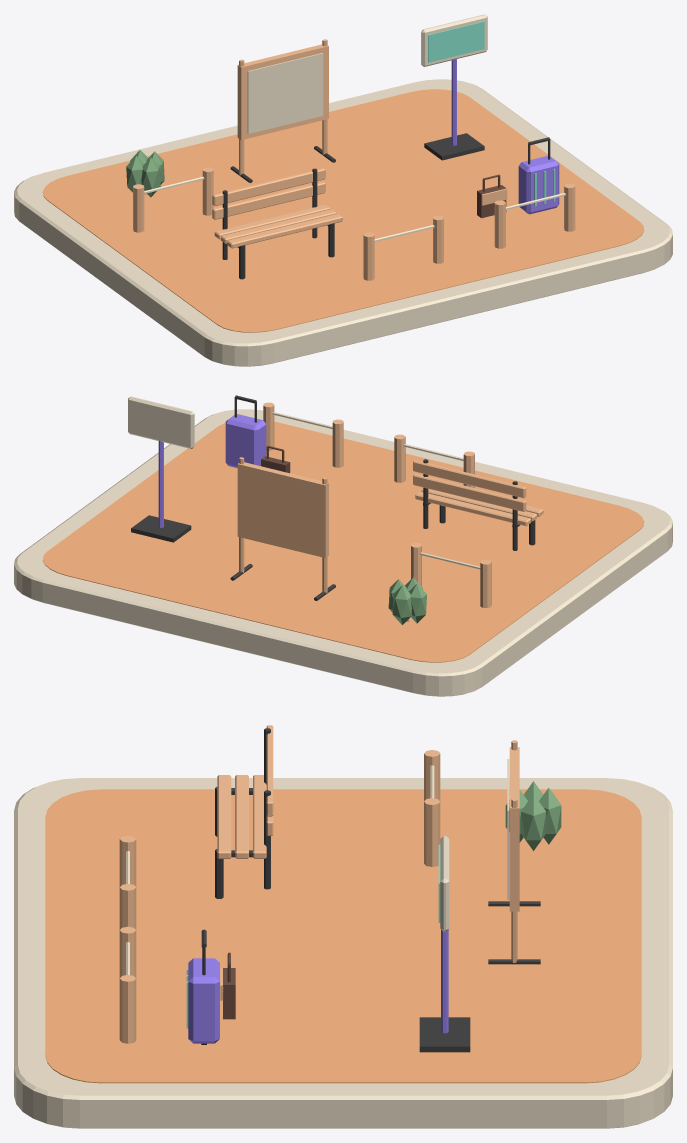
3 renders of one model, top to bottom at view 1: azimuth 30°, elevation 25°; view 2: azimuth 150°, elevation 25°; view 3: azimuth 270°, elevation 25°, orthographic. The views are drawn at different scales.
Visible parts, largest first — view 1: COM-02 Floor Surface, COM-01 Rounded Base Direct, Art surface, Frame, Shell, Inset, Back slat, Back slat.001, Seat slat, Sign panel, Foot.002, Bag (+9 smaller); view 2: COM-02 Floor Surface, COM-01 Rounded Base Direct, Frame, Sign panel, Shell, Back slat.001, Back slat, Seat slat.002, Foot.002, Seat slat.001, Leaf.001, Boundary post.002 (+6 smaller); view 3: COM-02 Floor Surface, COM-01 Rounded Base Direct, Shell, Foot.002, Frame, Seat slat, Boundary post.003, Seat slat.001, Boundary post.005, Leaf, Seat slat.002, Sign panel (+8 smaller).
Boxes of the visible parts, x1=… form: COM-02 Floor Surface: x1=42, y1=89, x2=644, y2=332; COM-01 Rounded Base Direct: x1=14, y1=79, x2=672, y2=366; Art surface: x1=247, y1=53, x2=323, y2=133; Frame: x1=237, y1=44, x2=328, y2=139; Shell: x1=518, y1=155, x2=559, y2=214; Inset: x1=428, y1=21, x2=484, y2=62; Back slat: x1=212, y1=181, x2=325, y2=219; Back slat.001: x1=212, y1=168, x2=325, y2=205; Seat slat: x1=227, y1=214, x2=342, y2=248; Sign panel: x1=421, y1=14, x2=487, y2=66; Foot.002: x1=424, y1=133, x2=484, y2=160; Bag: x1=477, y1=174, x2=507, y2=218; COM-02 Floor Surface: x1=42, y1=419, x2=644, y2=662; COM-01 Rounded Base Direct: x1=14, y1=409, x2=672, y2=696; Frame: x1=237, y1=462, x2=328, y2=557; Sign panel: x1=128, y1=396, x2=194, y2=448; Shell: x1=225, y1=414, x2=266, y2=467; Back slat.001: x1=413, y1=460, x2=526, y2=498; Back slat: x1=413, y1=474, x2=526, y2=511; Seat slat.002: x1=415, y1=491, x2=530, y2=526; Foot.002: x1=131, y1=515, x2=191, y2=542; Seat slat.001: x1=421, y1=489, x2=537, y2=521; Leaf.001: x1=392, y1=585, x2=411, y2=624; Boundary post.002: x1=332, y1=419, x2=343, y2=467; COM-02 Floor Surface: x1=45, y1=789, x2=641, y2=1083; COM-01 Rounded Base Direct: x1=14, y1=778, x2=672, y2=1128; Shell: x1=188, y1=958, x2=219, y2=1043; Foot.002: x1=419, y1=1017, x2=470, y2=1052; Frame: x1=509, y1=747, x2=519, y2=911; Seat slat: x1=217, y1=775, x2=231, y2=858; Boundary post.003: x1=119, y1=975, x2=136, y2=1043; Seat slat.001: x1=235, y1=775, x2=248, y2=858; Boundary post.005: x1=424, y1=798, x2=440, y2=866; Leaf: x1=521, y1=794, x2=546, y2=850; Seat slat.002: x1=253, y1=775, x2=266, y2=858; Sign panel: x1=440, y1=836, x2=449, y2=931.
Bounding box in the file's own units: 6 × 1.87 × 5.2.
Materials: 1 (1 with a texture image).
